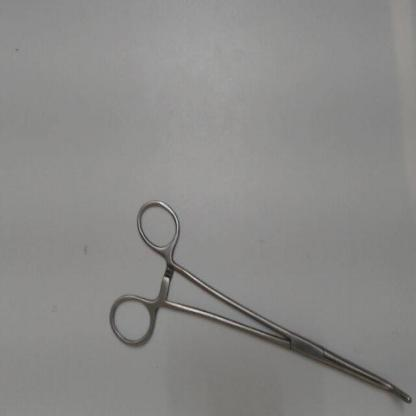Lahey Forceps: (102, 190, 414, 412)
